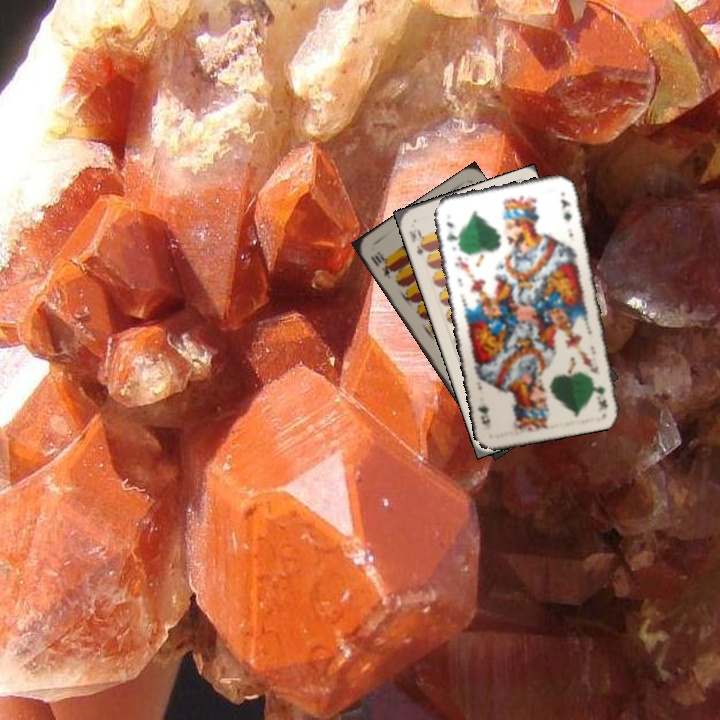E10: (366, 247, 397, 281), (405, 226, 432, 259)
GK: (591, 382, 610, 413), (442, 217, 460, 245)
